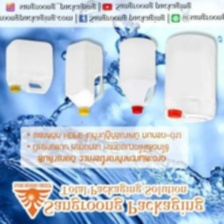cleaning_solution: (161, 30, 219, 125), (62, 39, 105, 117), (1, 35, 56, 95), (117, 36, 158, 116)
